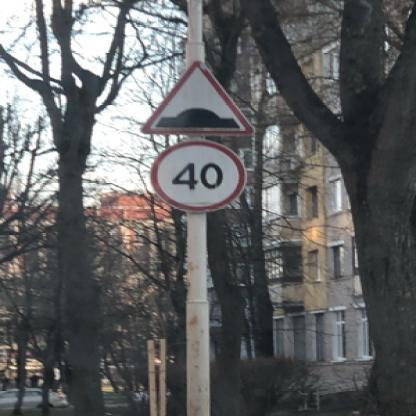speedlimit: (147, 139, 244, 211)
